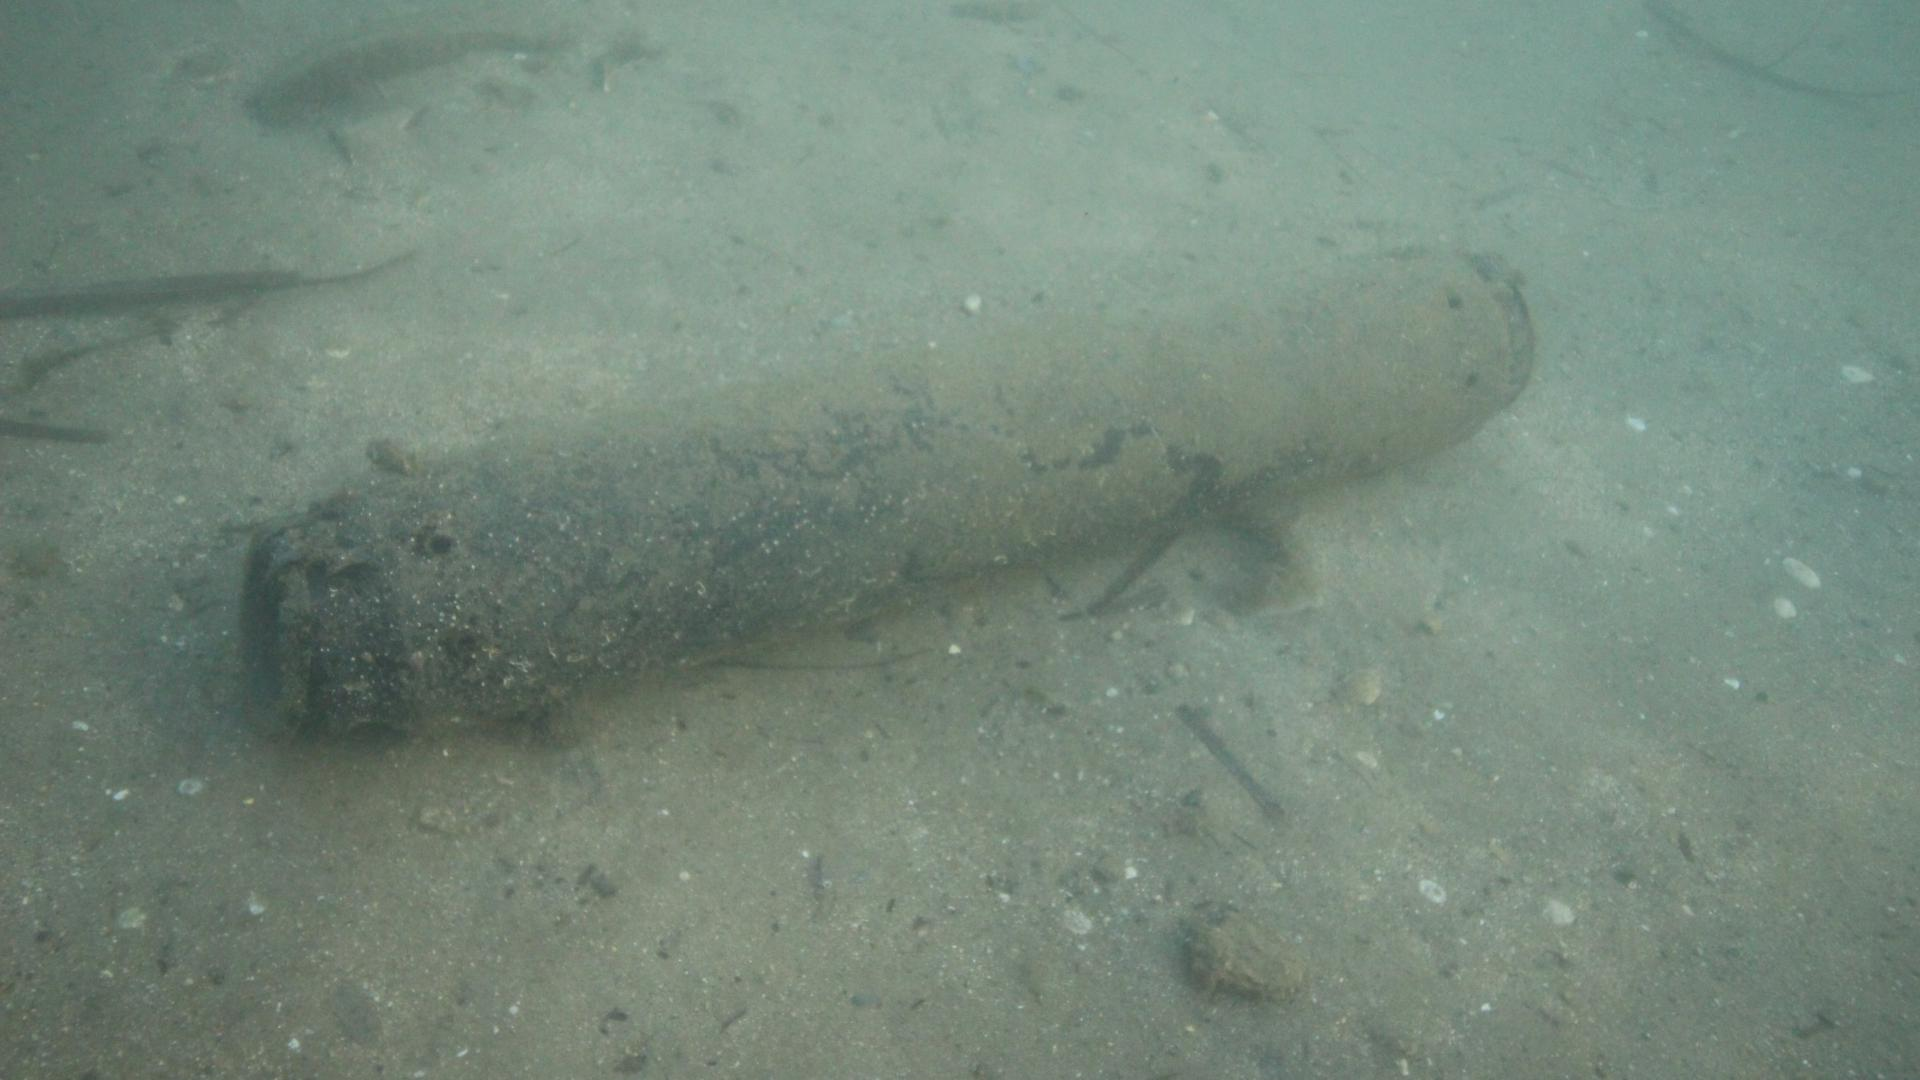eel fish trap: (240, 245, 1538, 740)
